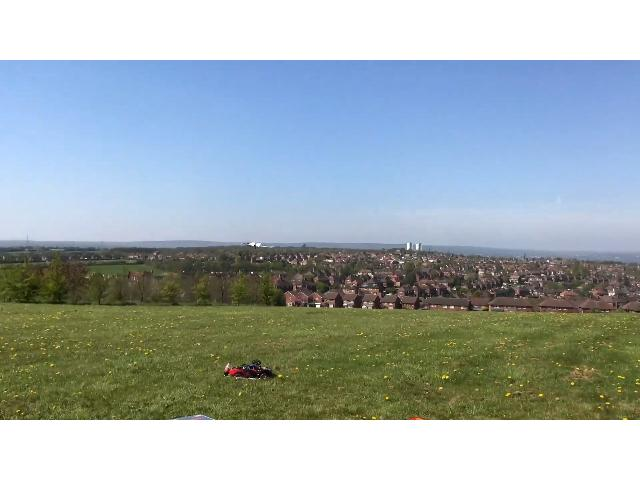Anti-Drone: (234, 236, 276, 250)
